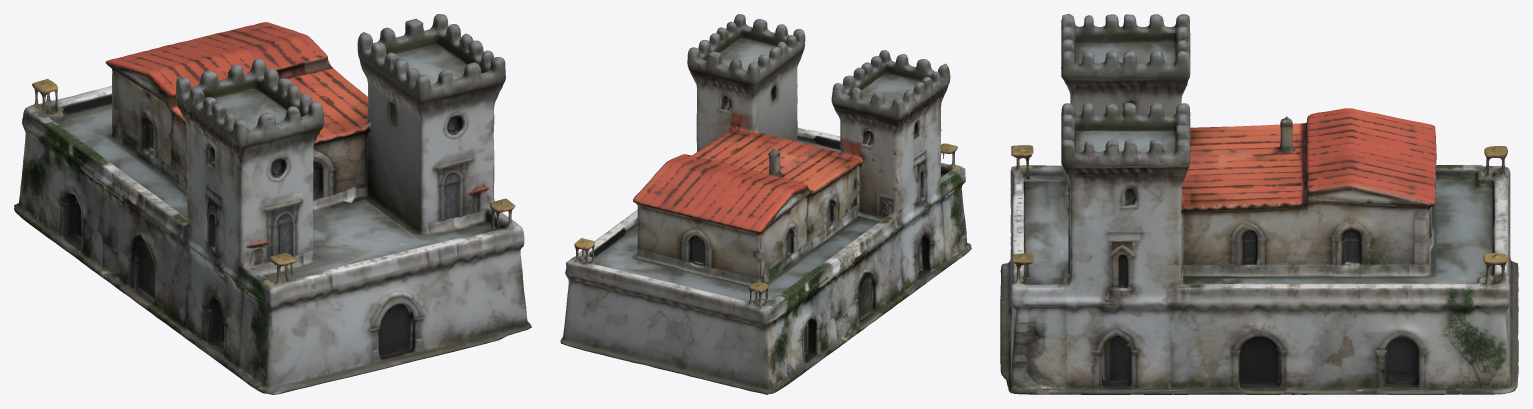
File: desert_stone_house_lev2.glb
3 views of the same model, side by side, from view 1: azimuth 30°, elevation 25°; view 2: azimuth 150°, elevation 25°; view 3: azimuth 270°, elevation 25° (orthographic). The views are drawn at different scales.
Visible parts, largest first — view 1: model_0.003; view 2: model_0.003; view 3: model_0.003.
Part boxes in pixels (bbox=[...]): model_0.003: bbox=[14, 14, 531, 394]; model_0.003: bbox=[560, 14, 971, 394]; model_0.003: bbox=[1000, 14, 1518, 394].
Bounding box in the file's own units: 32.44 × 28.34 × 53.05.
Materials: 1 (1 with a texture image).
